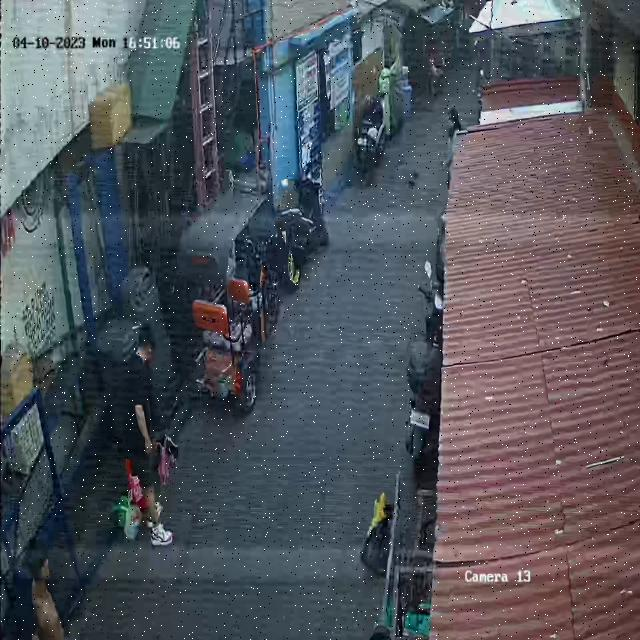human: (127, 322, 179, 546)
trash: (118, 474, 146, 546), (152, 422, 182, 488)
